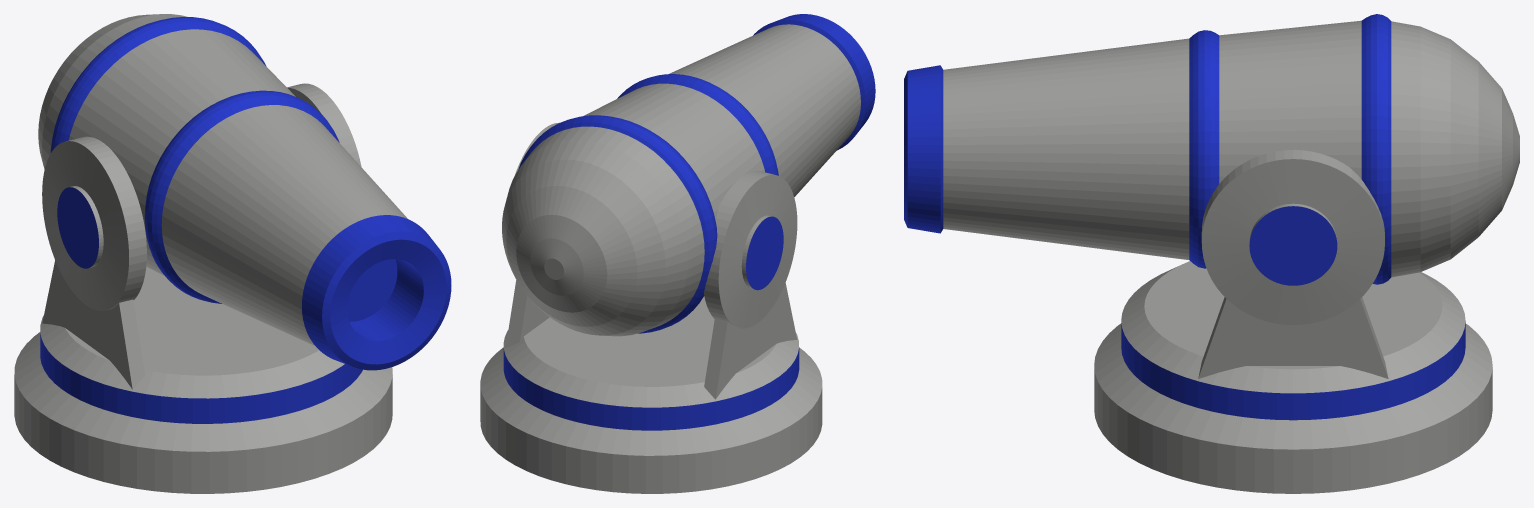
File: cannon_water.fbx
3 renders of one model, left to right at view 1: azimuth 30°, elevation 25°; view 2: azimuth 150°, elevation 25°; view 3: azimuth 270°, elevation 25°, orthographic. The views are drawn at different scales.
Visible parts, largest first — view 1: Circle; view 2: Circle; view 3: Circle.
Part boxes in pixels (x1,y1,x2,y2): Circle: (14, 14, 451, 493); Circle: (480, 14, 875, 493); Circle: (904, 14, 1519, 493).
Size of the model in its own units: 231 by 246 by 358.
Materials: 1 (1 with a texture image).
